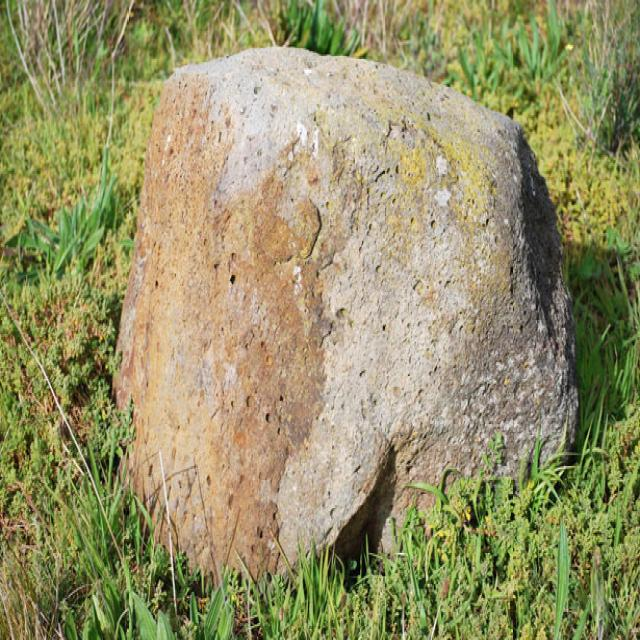grass: (62, 259, 639, 638), (0, 300, 84, 637)
stone: (112, 47, 578, 575)
